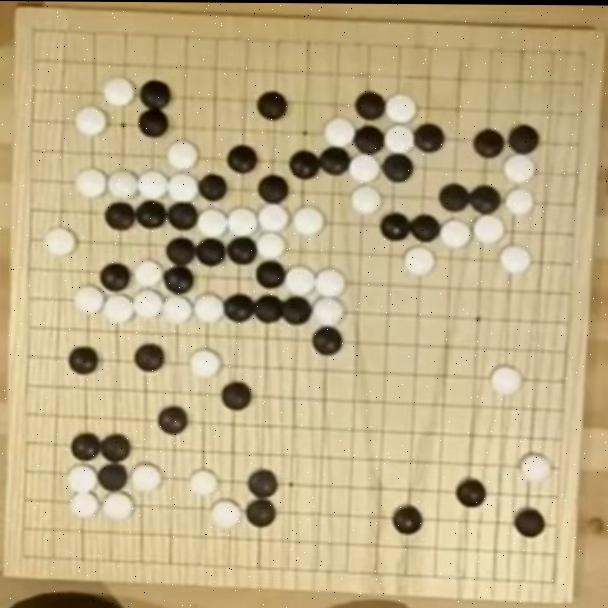corners: (8, 535, 42, 574), (19, 16, 51, 46), (568, 38, 602, 64), (542, 560, 564, 600)
